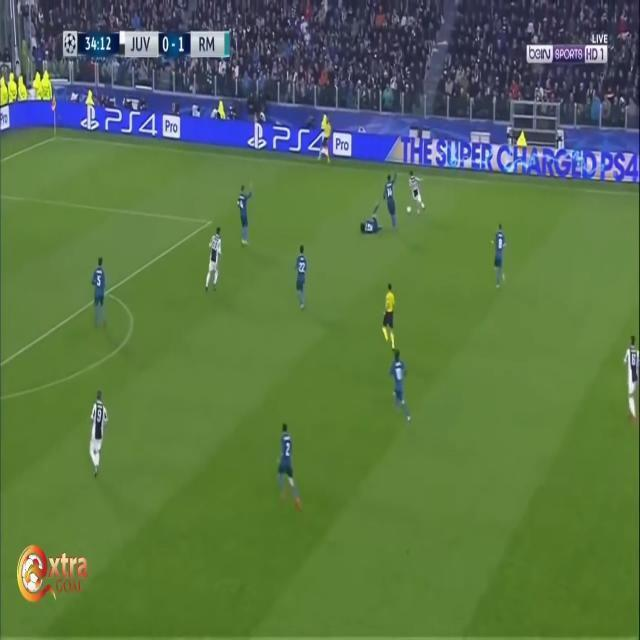Arbitre: (380, 283, 400, 350), (318, 110, 336, 171)
Ballon: (405, 201, 413, 219)
Joueur: (274, 418, 302, 515), (85, 386, 111, 484), (89, 258, 110, 332), (391, 349, 411, 424), (205, 225, 225, 295), (293, 244, 311, 312), (236, 187, 253, 251), (495, 228, 508, 290), (383, 176, 397, 228), (409, 174, 424, 215)
